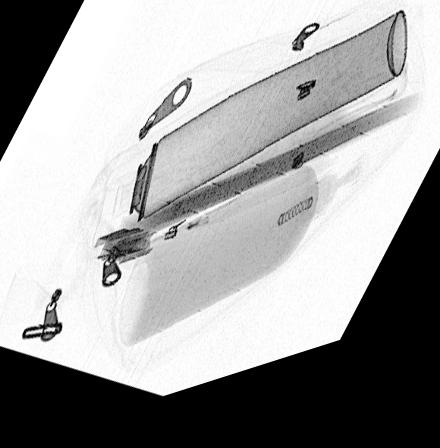Sprayer: (91, 35, 408, 252)
